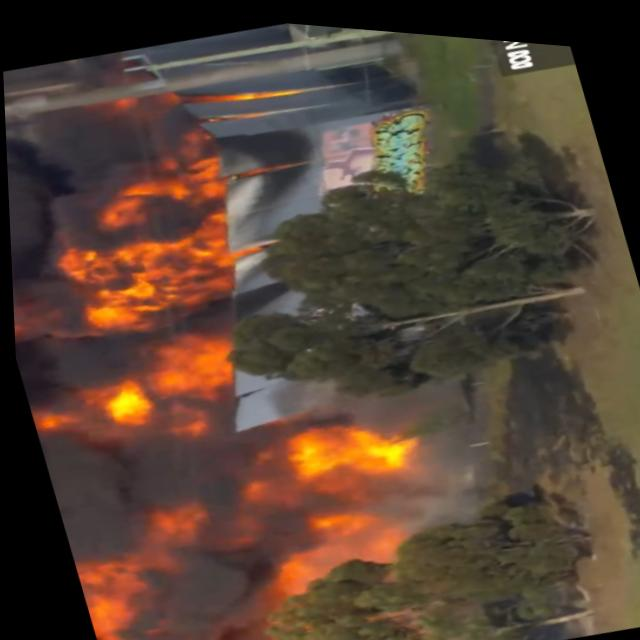Fire: (28, 144, 263, 349), (58, 493, 224, 640), (241, 481, 420, 609), (71, 312, 244, 438), (255, 387, 418, 517), (233, 619, 340, 640), (25, 396, 74, 437)
